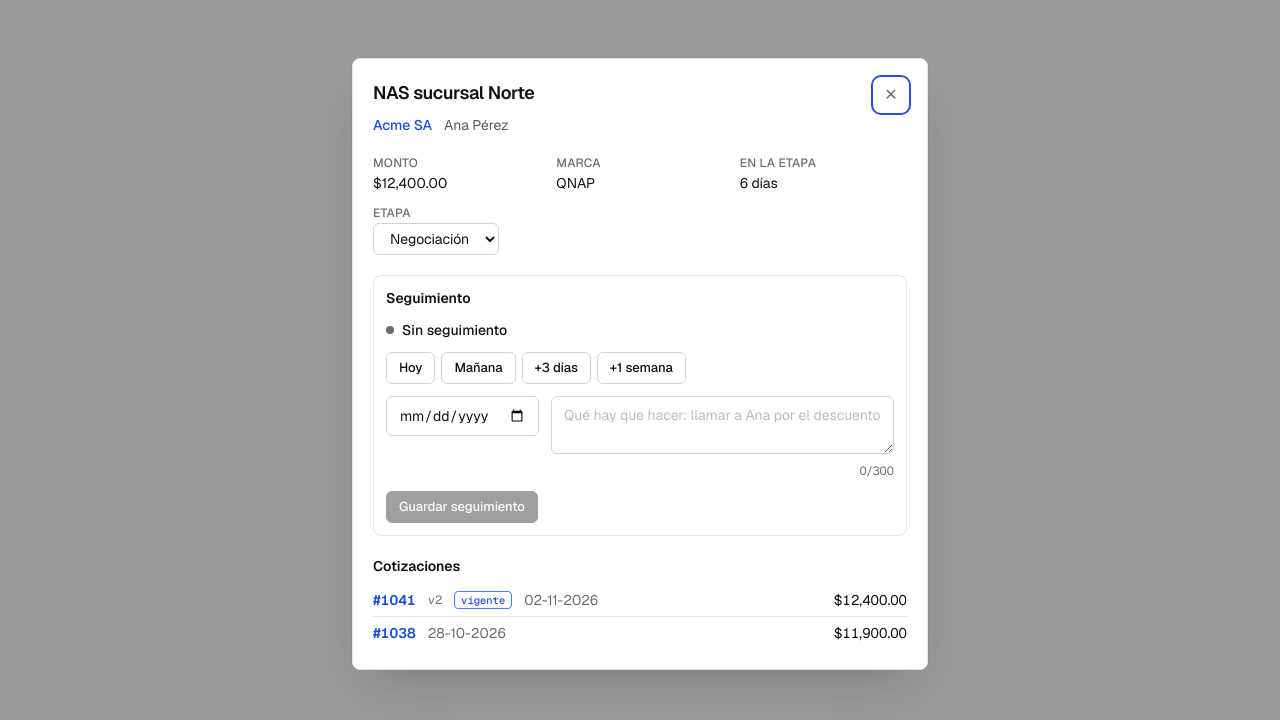
Scenario: OportunidadPanel › seguimiento › el atajo "+3 días" pone 2026-11-23 en el campo sin guardar
expect the dialog "NAS sucursal Norte" is shown: met, box x1=352 y1=58 x2=928 y2=670
expect the heading "Seguimiento" is shown: met, box x1=386 y1=289 x2=471 y2=307
Click the button "+3 días" at x=556, y=368, box x1=522 y1=352 x2=591 y2=384
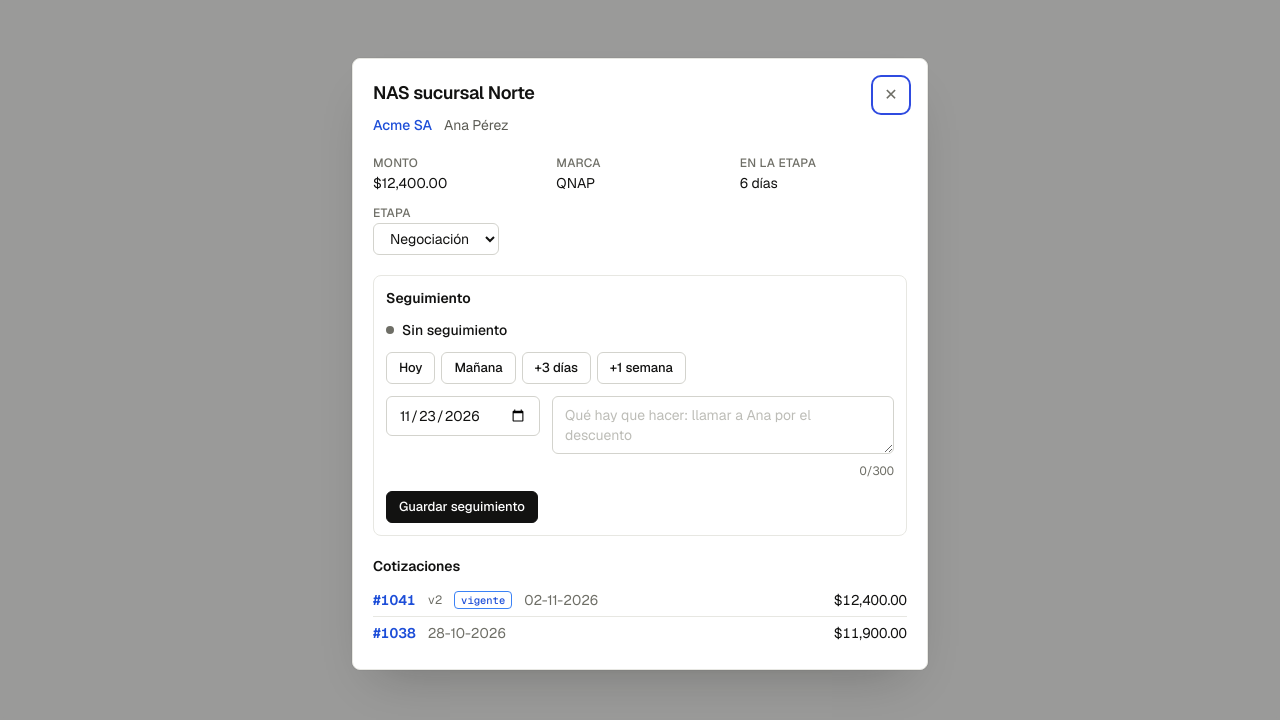
expect the date field named "Fecha del próximo seguimiento" holds "2026-11-23": met, box x1=386 y1=396 x2=540 y2=436
expect the button "Guardar seguimiento" is enabled: met, box x1=386 y1=491 x2=538 y2=523
